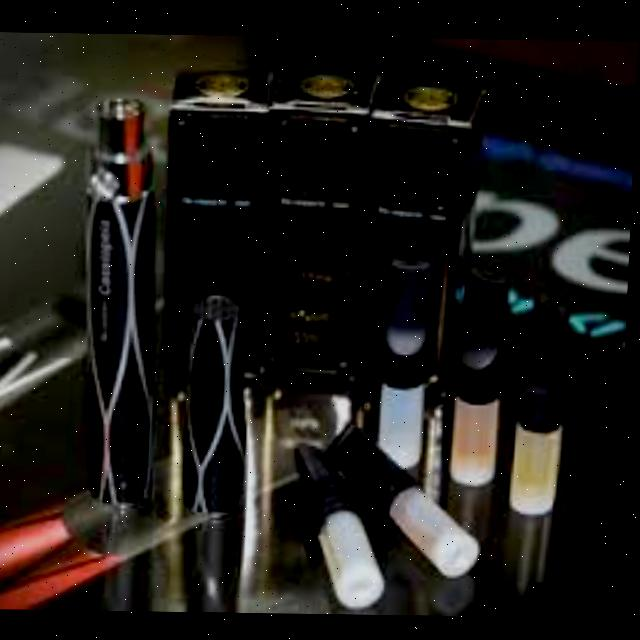vape: (79, 96, 168, 509)
